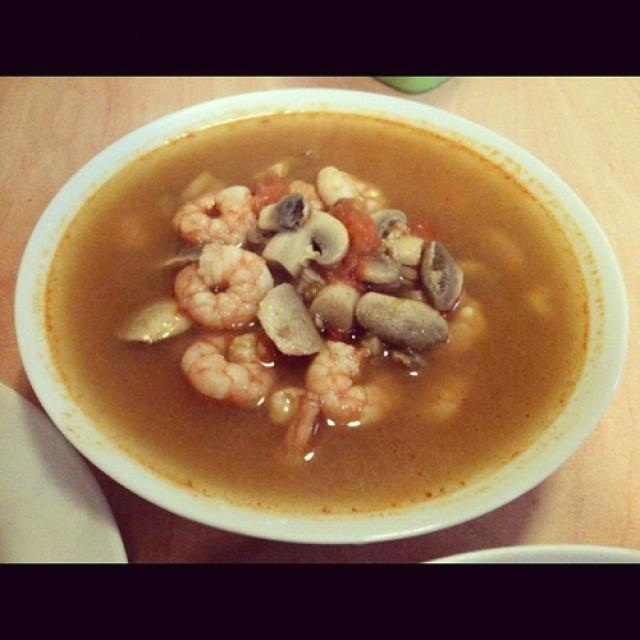汤锅炖物: (44, 101, 608, 530)
